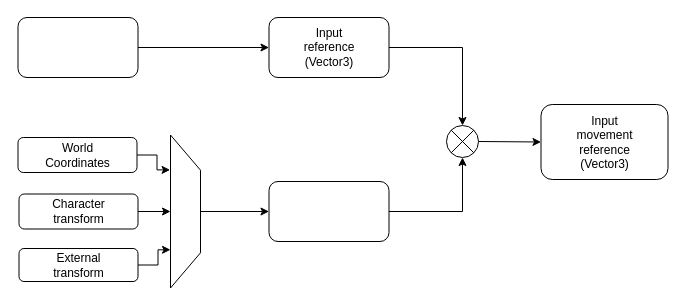
The diagram is 685 pixels wide and 306 high, and some of its shapes have lost their labels. Here are the shapes that lost their labels. From the top down, the centre of each, then its label:
the point at 77,47: Input axes (Vector2)
the point at 328,211: Movement reference (Vector3)
